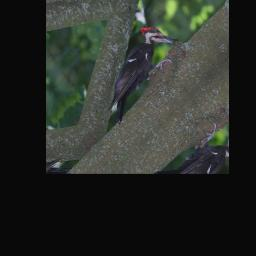Woodpecker: (85, 11, 188, 128)
